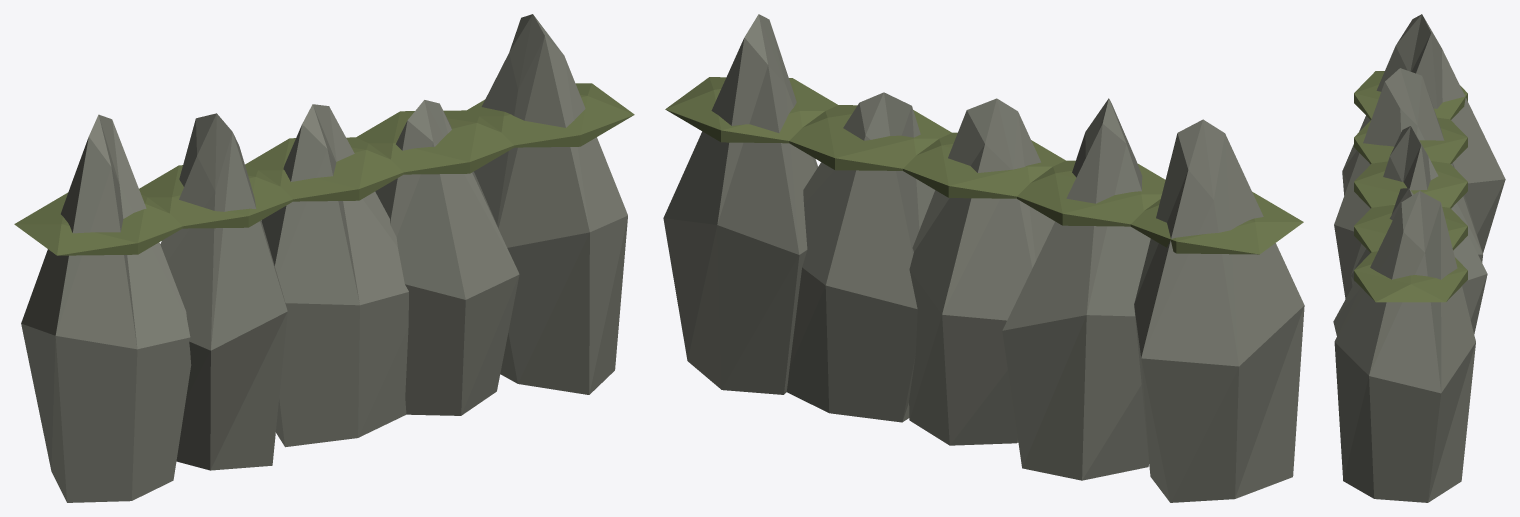
Rendered from cliff_edge-far.glb.
3 renders of one model, left to right at view 1: azimuth 30°, elevation 25°; view 2: azimuth 150°, elevation 25°; view 3: azimuth 270°, elevation 25°, orthographic. The views are drawn at different scales.
Visible parts, largest first — view 1: world-scenery/cliff_edge-far; view 2: world-scenery/cliff_edge-far; view 3: world-scenery/cliff_edge-far.
Part boxes in pixels (box(x1,y1,x2,y2)): world-scenery/cliff_edge-far: box(14, 14, 634, 502); world-scenery/cliff_edge-far: box(663, 14, 1304, 502); world-scenery/cliff_edge-far: box(1333, 14, 1505, 502).
Bounding box in the file's own units: 6.59 × 3.82 × 2.06.
